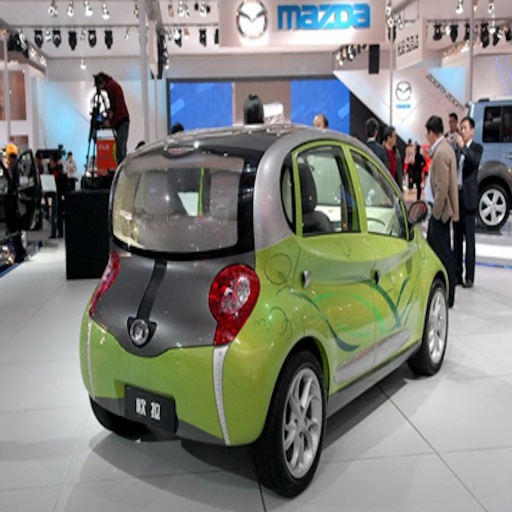back_bumper: (85, 315, 278, 444)
back_right_door: (292, 141, 373, 372)
trunk: (95, 158, 214, 359)
